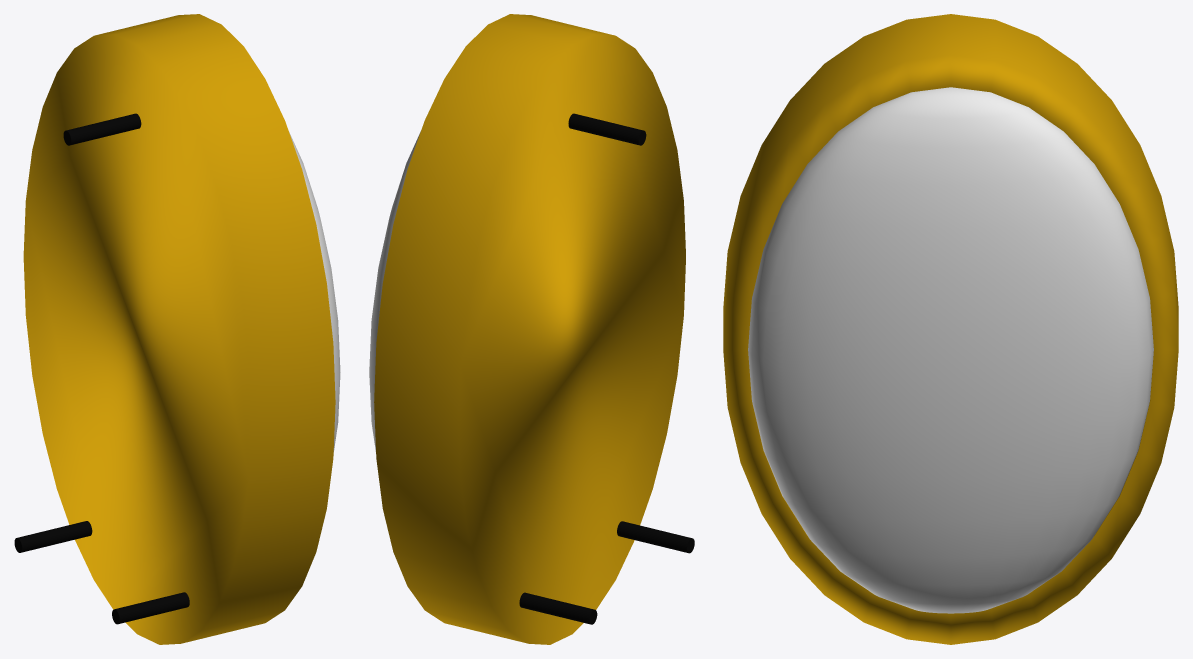
The model's file is wandleuchte.glb.
The picture shows the model from 3 angles, left to right: view 1: azimuth 30°, elevation 25°; view 2: azimuth 150°, elevation 25°; view 3: azimuth 270°, elevation 25°; orthographic projection.
Parts seen in each view (by area): view 1: Wandleuchte; view 2: Wandleuchte; view 3: Wandleuchte.
Part boxes in pixels (x1,y1,x2,y2): Wandleuchte: (14, 14, 340, 644); Wandleuchte: (369, 14, 694, 644); Wandleuchte: (723, 14, 1178, 644).
Size of the model in its own units: 0.7706 by 2 by 1.4.
